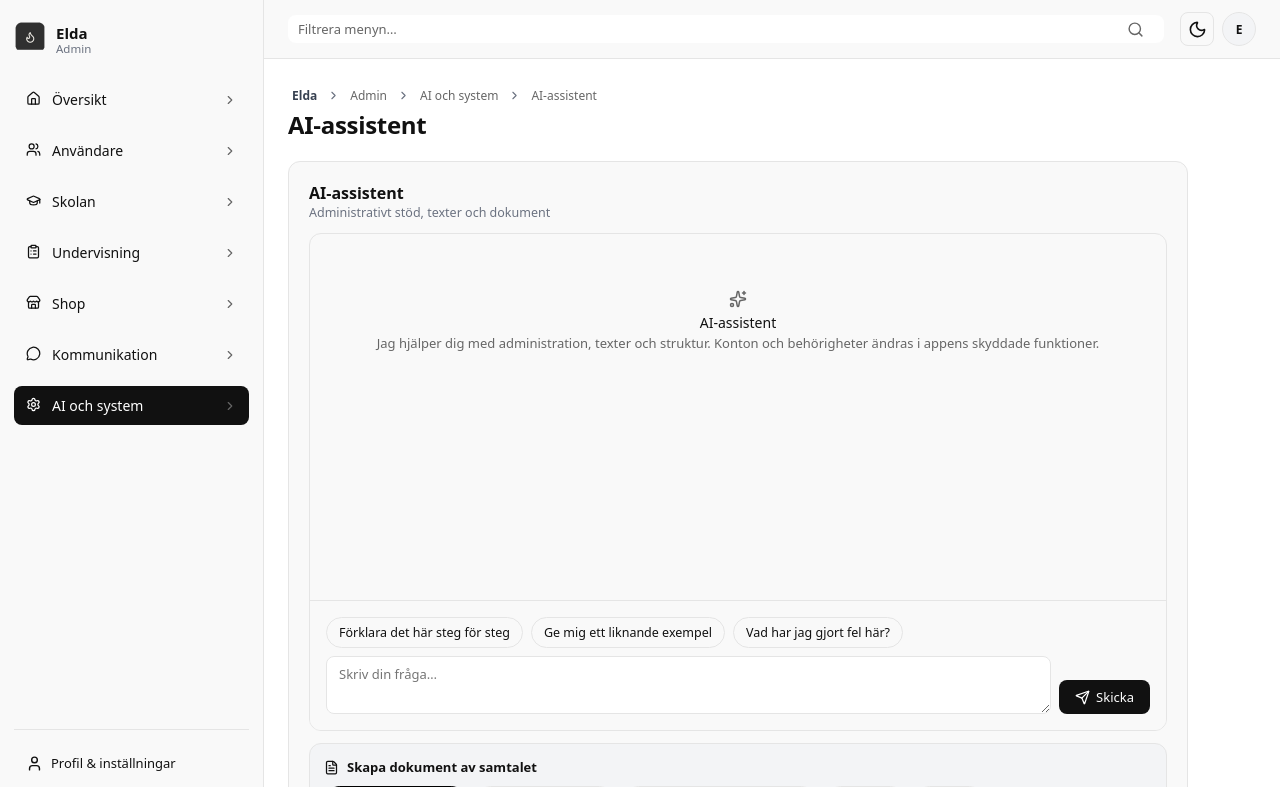
Test: adminpanelens AI-assistent › märker slut på AI-kvoten som ett tjänsteläge, inte som ett fel eleven gjort
In the text box labelled "fråga": [689, 685] box x1=326 y1=656 x2=1051 y2=714, type "Vad är ett bråk?"
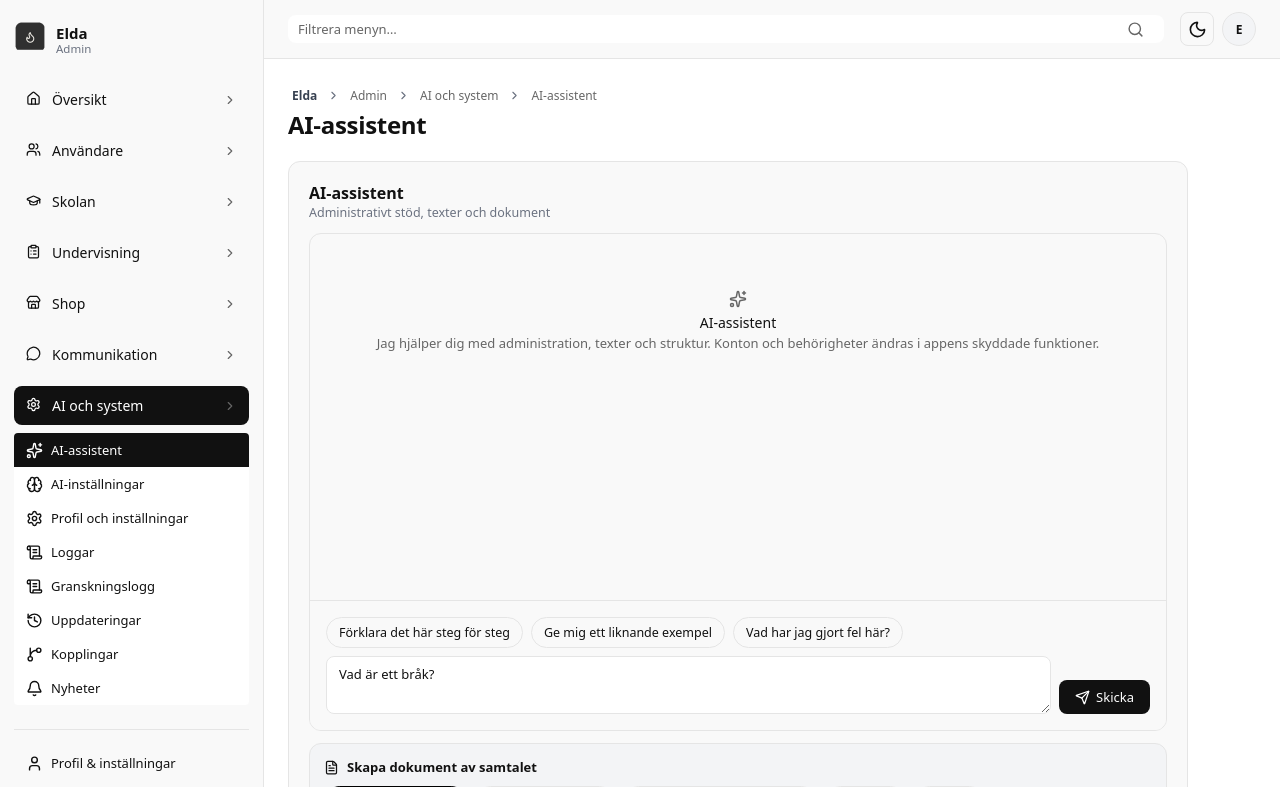
Click the button "Skicka": [1105, 697] box x1=1059 y1=680 x2=1150 y2=714
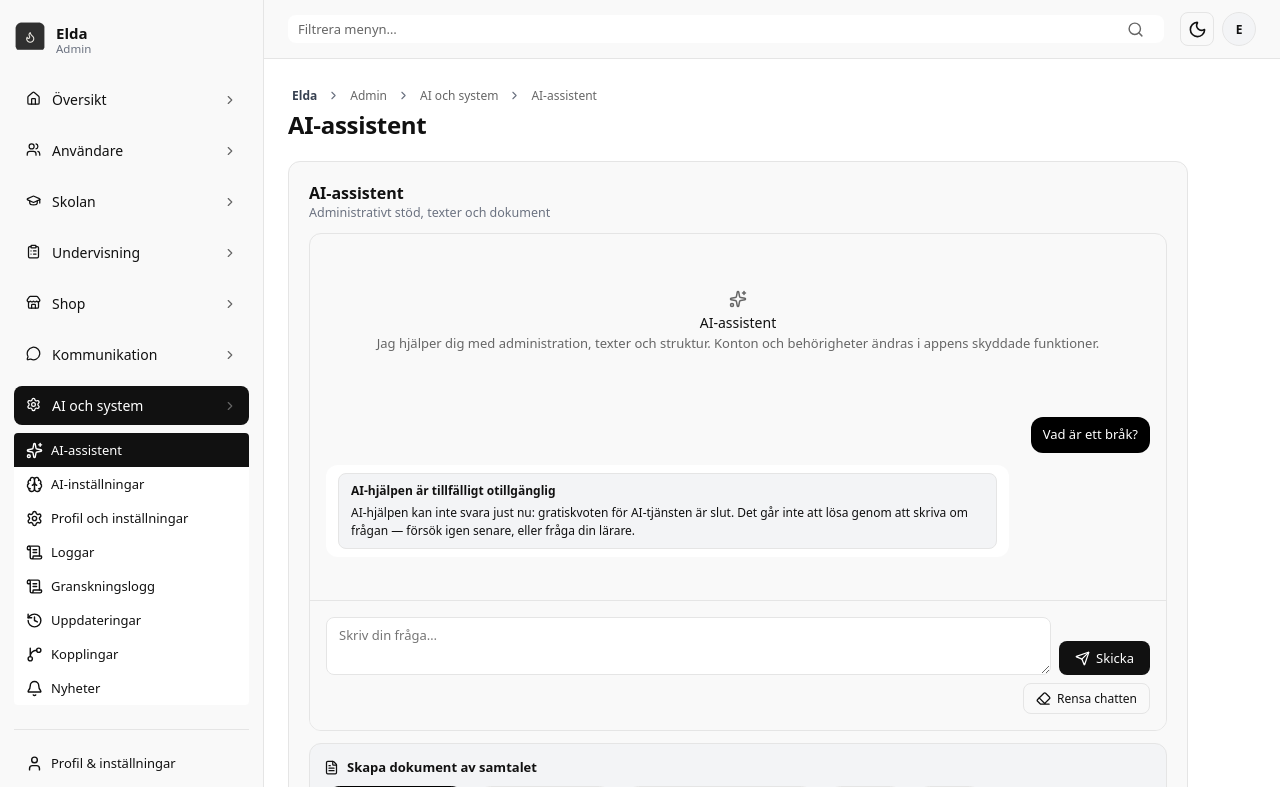
Now the element with test id "ai-error" shows "AI-hjälpen är tillfälligt otillgänglig", box x1=351 y1=482 x2=556 y2=498
Now the element with test id "ai-error" shows "gratiskvoten för AI-tjänsten är slut", box x1=351 y1=504 x2=968 y2=538
Now the message with class "chat-error-service" is shown, box x1=338 y1=472 x2=997 y2=548
